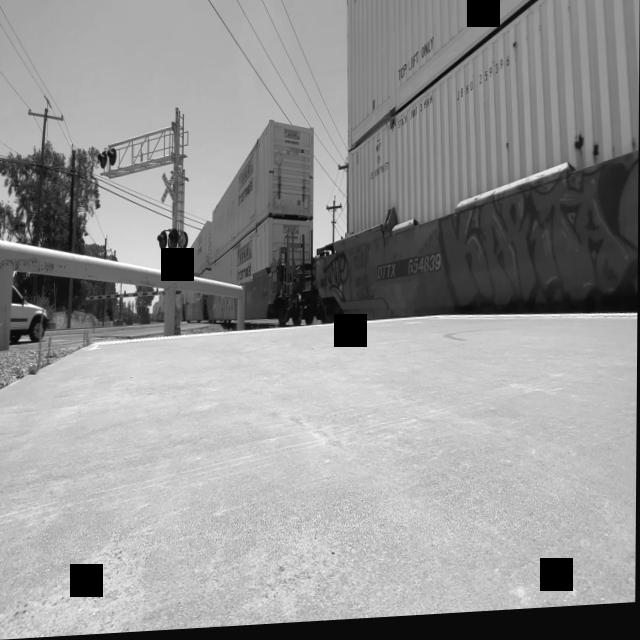container: (344, 0, 640, 241), (340, 0, 603, 159), (210, 116, 317, 269), (211, 217, 314, 292)
flatcar: (316, 99, 639, 339)
